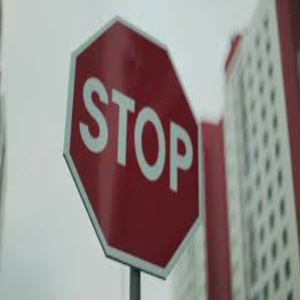STOP_SIGN: (62, 14, 204, 280)
